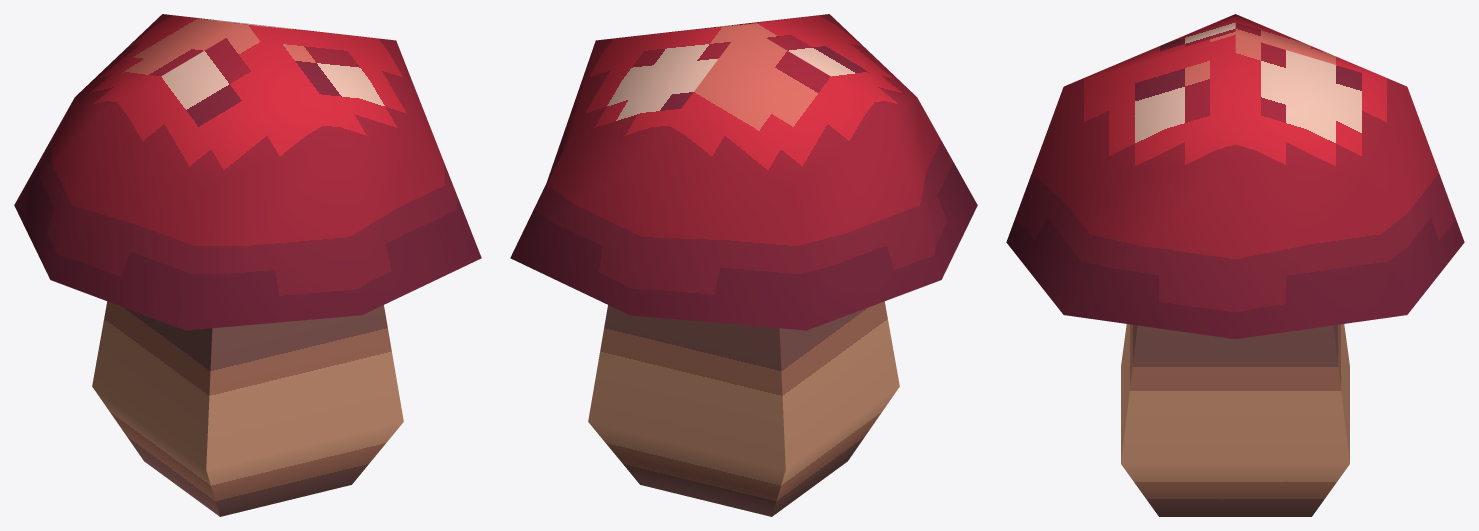
File: Mushroom_Large.fbx
The picture shows the model from 3 angles, left to right: view 1: azimuth 30°, elevation 25°; view 2: azimuth 150°, elevation 25°; view 3: azimuth 270°, elevation 25°; orthographic projection.
Visible parts, largest first — view 1: Mushroom_Large; view 2: Mushroom_Large; view 3: Mushroom_Large.
Boxes of the visible parts, x1,y1,x2,y2 form: Mushroom_Large: (14,14,481,516); Mushroom_Large: (510,14,977,516); Mushroom_Large: (1006,14,1464,516).
Bounding box in the file's own units: 4.5 × 4.88 × 4.5.
